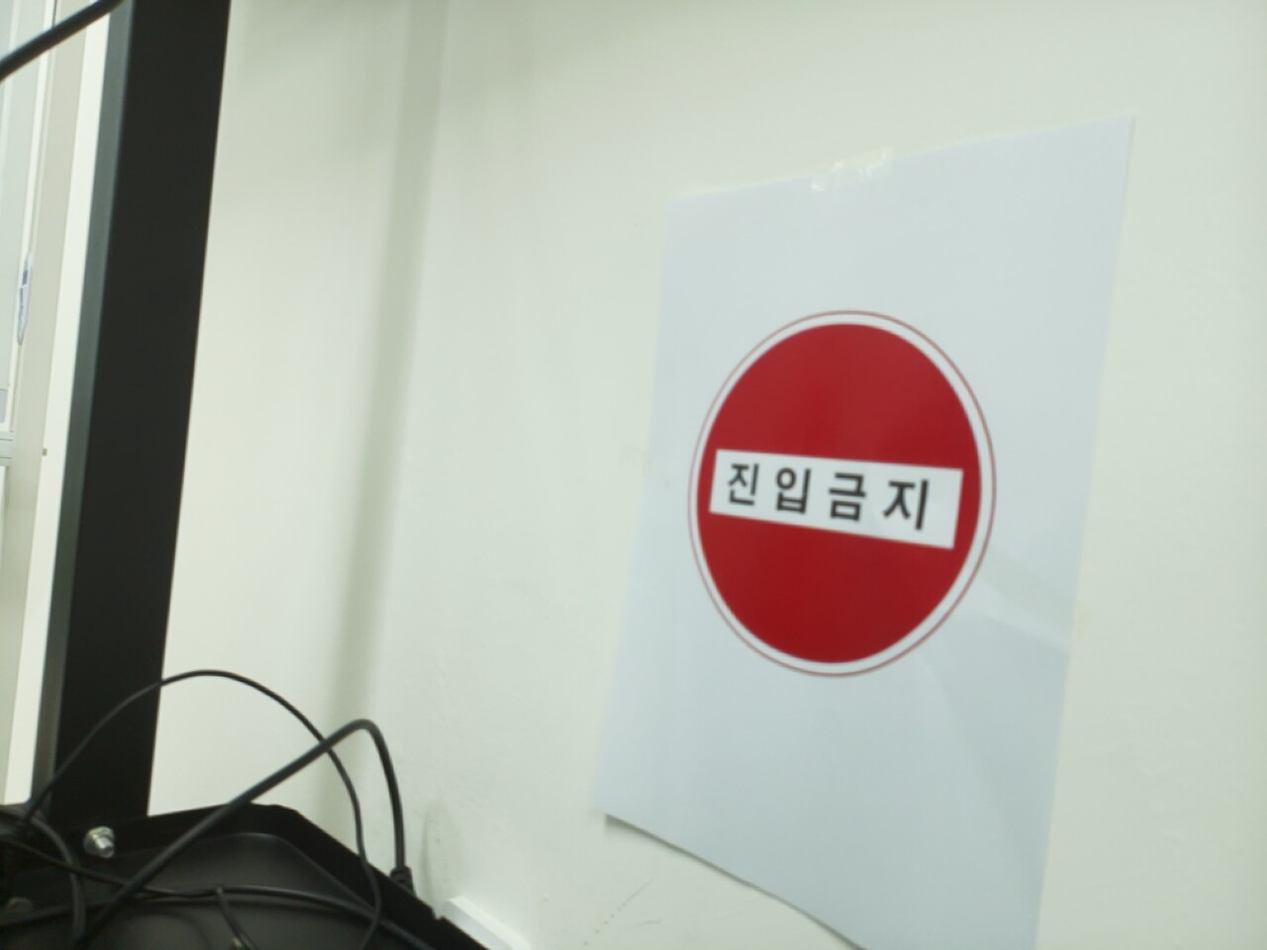do_not_enter: (688, 313, 991, 675)
